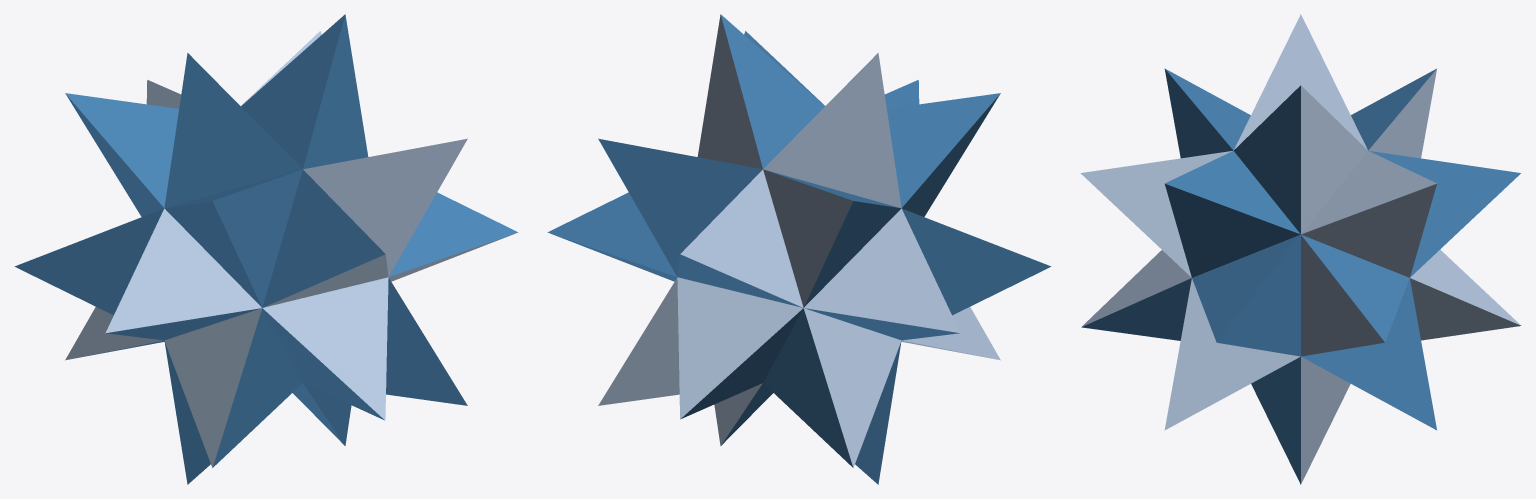
Rendered from Icosaedro (Memory Fragment).fbx.
3 renders of one model, left to right at view 1: azimuth 30°, elevation 25°; view 2: azimuth 150°, elevation 25°; view 3: azimuth 270°, elevation 25°, orthographic. The views are drawn at different scales.
Visible parts, largest first — view 1: Group1; view 2: Group1; view 3: Group1.
Part boxes in pixels (<box>): Group1: <box>14,14,518,484</box>; Group1: <box>547,14,1051,484</box>; Group1: <box>1080,14,1521,484</box>.
Bounding box in the file's own units: 0.2818 × 0.2818 × 0.282.
